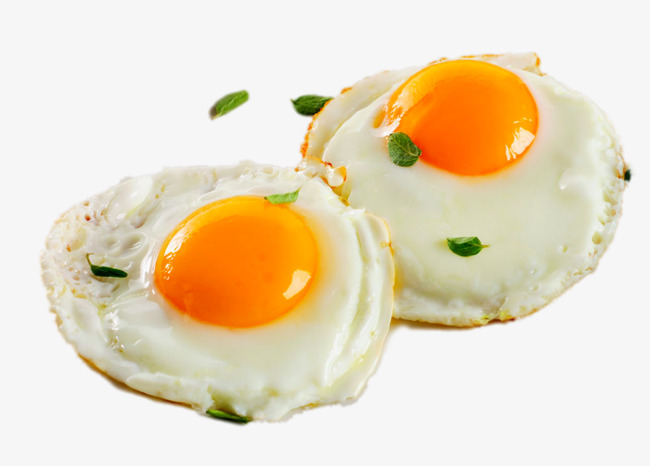fried egg: (112, 179, 356, 396), (343, 53, 589, 261)
